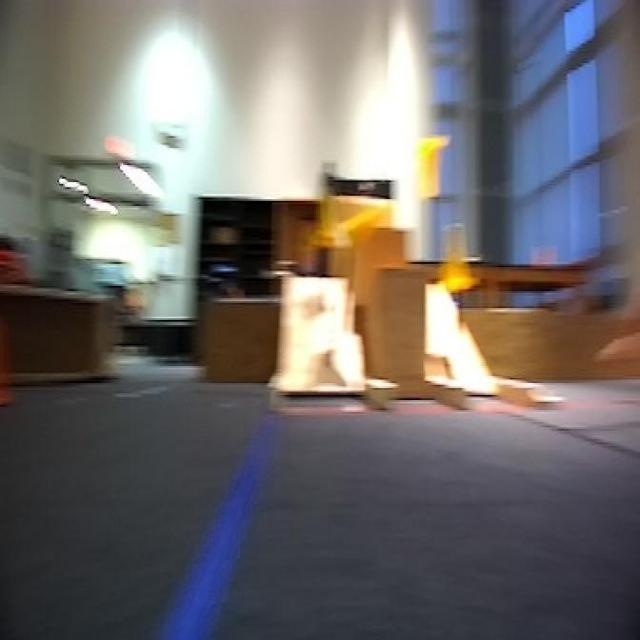frc_cone: (433, 211, 486, 306), (410, 128, 450, 208), (345, 201, 393, 255), (312, 191, 343, 255)
